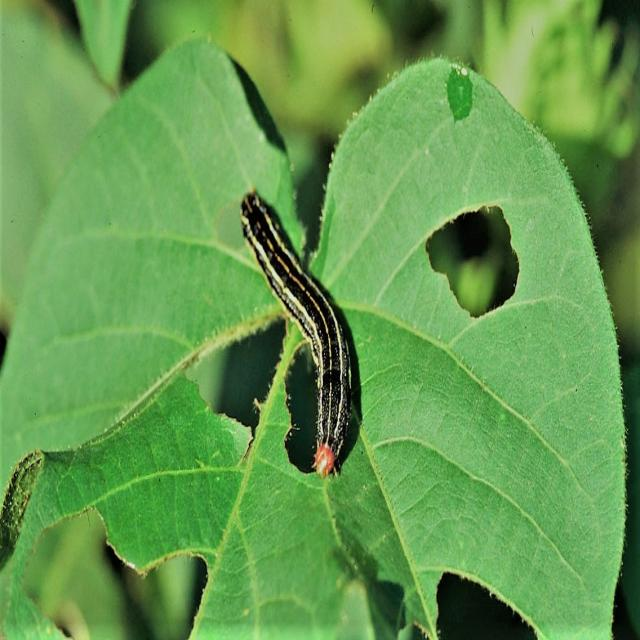armyworm: (239, 188, 352, 478)
